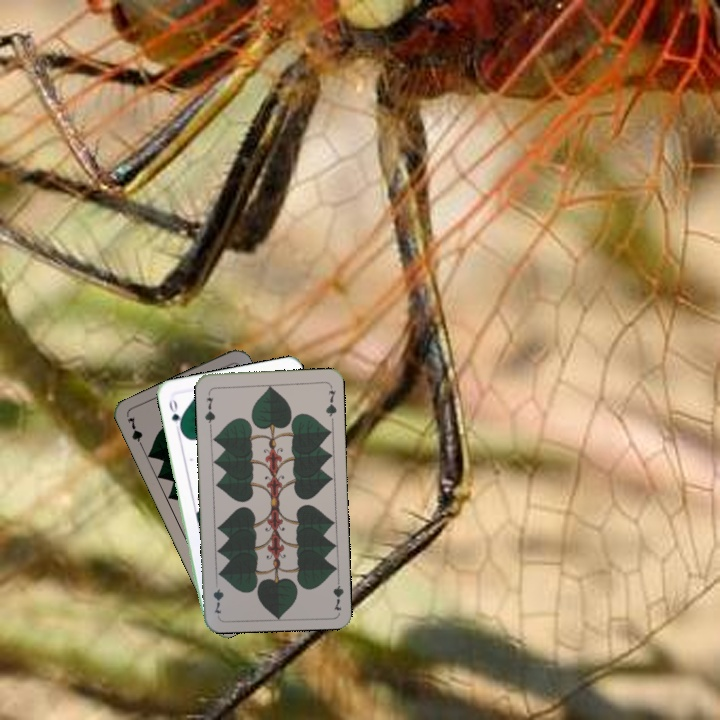G7: (123, 413, 147, 452), (329, 572, 346, 612), (201, 393, 218, 428)
GO: (165, 395, 185, 434)
